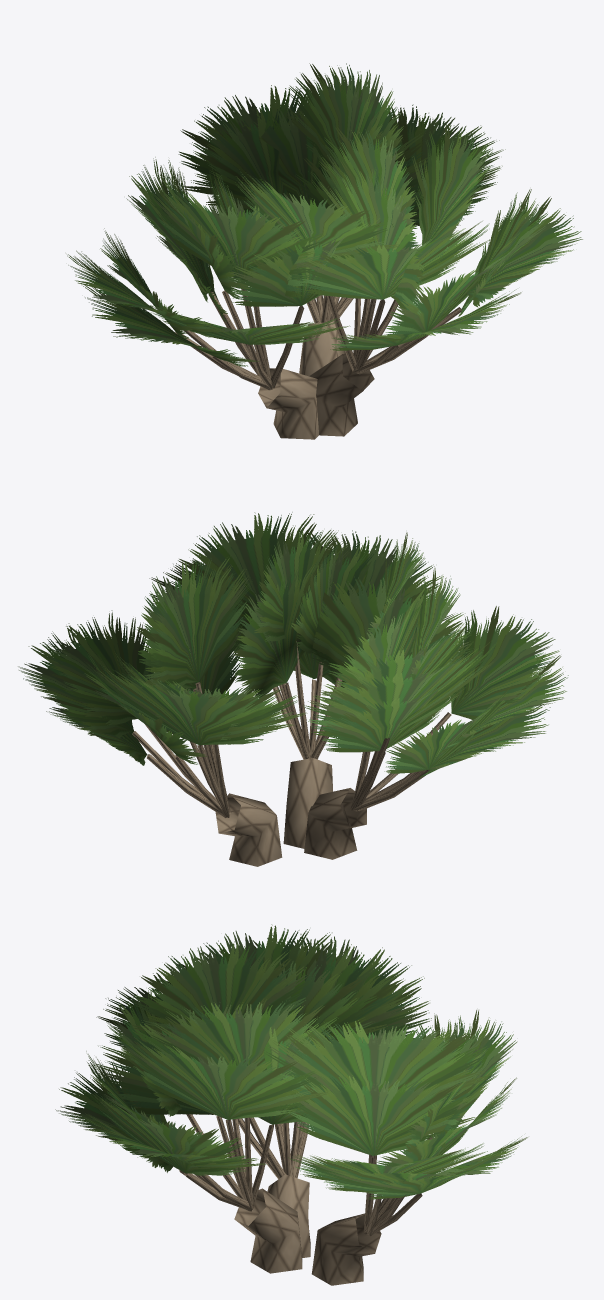
The model's file is veg_saw_palmetto_b.fbx.
3 views of the same model, one above another, from view 1: azimuth 30°, elevation 25°; view 2: azimuth 150°, elevation 25°; view 3: azimuth 270°, elevation 25° (orthographic). The views are drawn at different scales.
Parts seen in each view (by area): view 1: veg_saw_palmetto_b_LOD0; view 2: veg_saw_palmetto_b_LOD0; view 3: veg_saw_palmetto_b_LOD0.
Boxes of the visible parts, <box> form: veg_saw_palmetto_b_LOD0: <box>67,63,582,439</box>; veg_saw_palmetto_b_LOD0: <box>18,512,568,866</box>; veg_saw_palmetto_b_LOD0: <box>55,924,527,1285</box>.
Size of what is drawn, in the model's own units: 1.81 by 1.06 by 1.81.
Materials: 2 (2 with a texture image).
